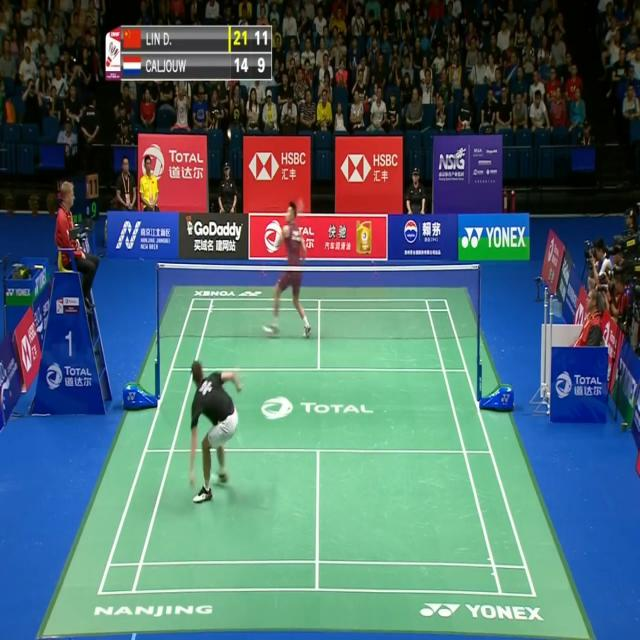Player1: (181, 353, 247, 508)
Player2: (259, 195, 315, 343)
